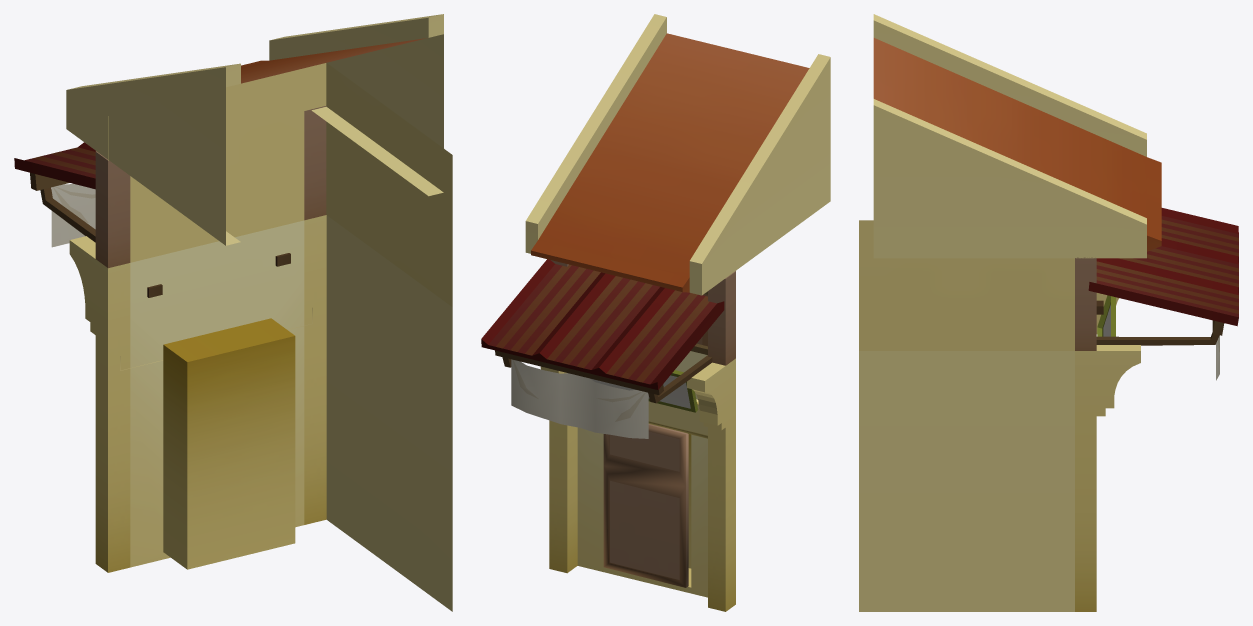
File: SM_Facade_simple_fuze_01.fbx
3 views of the same model, side by side, from view 1: azimuth 30°, elevation 25°; view 2: azimuth 150°, elevation 25°; view 3: azimuth 270°, elevation 25° (orthographic). The views are drawn at different scales.
Visible parts, largest first — view 1: SM_Facade_simple_fuze_01; view 2: SM_Facade_simple_fuze_01; view 3: SM_Facade_simple_fuze_01.
Boxes of the visible parts, x1,y1,x2,y2 form: SM_Facade_simple_fuze_01: (14,14,452,611); SM_Facade_simple_fuze_01: (481,14,830,611); SM_Facade_simple_fuze_01: (859,14,1238,611).
Bounding box in the file's own units: 302 × 777 × 528.
